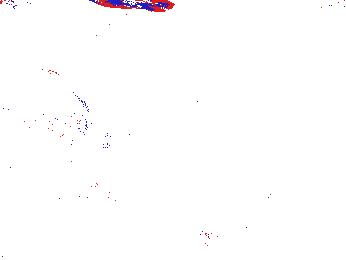X-ray fish: (13, 102, 89, 151), (197, 222, 249, 250), (2, 230, 41, 259)
red belly glassfish: (1, 1, 29, 11)
redtail glassfish: (90, 1, 173, 14)
